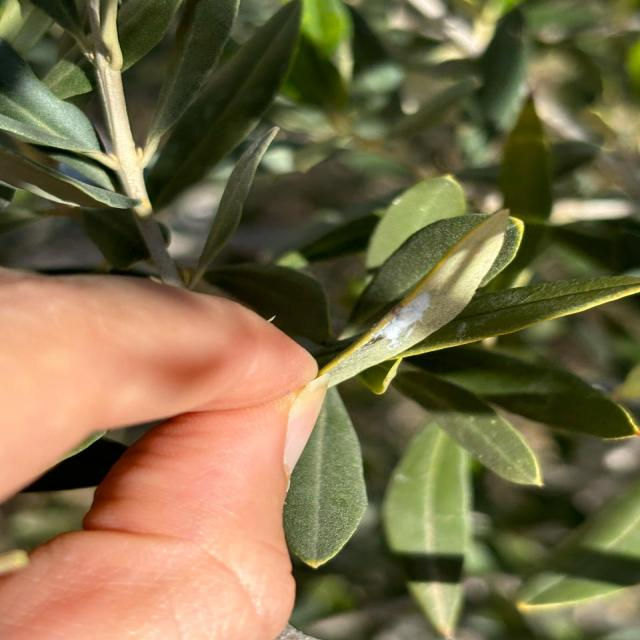Psyllid: (319, 210, 511, 388)
